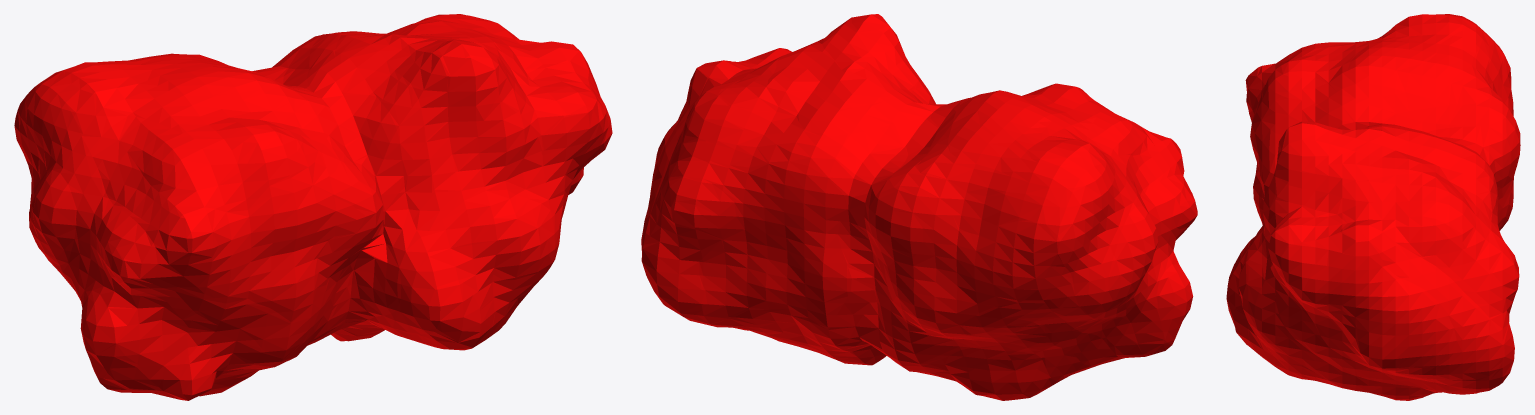
File: ADP_ribosylation_factor_6_coarse.dae
3 renders of one model, left to right at view 1: azimuth 30°, elevation 25°; view 2: azimuth 150°, elevation 25°; view 3: azimuth 270°, elevation 25°, orthographic. The views are drawn at different scales.
Visible parts, largest first — view 1: ADP_ribosylation_factor_6; view 2: ADP_ribosylation_factor_6; view 3: ADP_ribosylation_factor_6.
Part boxes in pixels (x1,y1,x2,y2): ADP_ribosylation_factor_6: (14, 14, 612, 400); ADP_ribosylation_factor_6: (641, 14, 1197, 400); ADP_ribosylation_factor_6: (1226, 14, 1520, 400).
Size of the model in its own units: 74.08 by 42.8 by 41.75.
